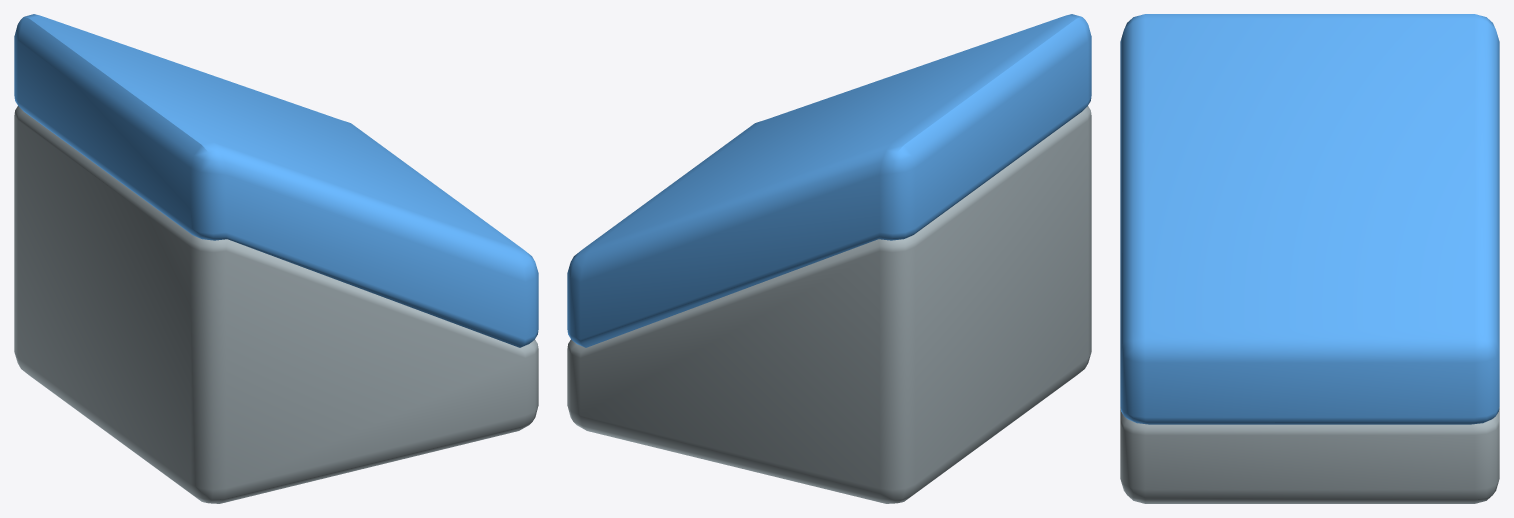
File: tileSlopeLowHigh_teamBlue.glb
3 views of the same model, side by side, from view 1: azimuth 30°, elevation 25°; view 2: azimuth 150°, elevation 25°; view 3: azimuth 270°, elevation 25° (orthographic). The views are drawn at different scales.
Parts seen in each view (by area): view 1: tileSlopeLowHigh_teamBlue; view 2: tileSlopeLowHigh_teamBlue; view 3: tileSlopeLowHigh_teamBlue.
Boxes of the visible parts, bbox=[...] form: tileSlopeLowHigh_teamBlue: bbox=[14, 14, 538, 503]; tileSlopeLowHigh_teamBlue: bbox=[567, 14, 1091, 503]; tileSlopeLowHigh_teamBlue: bbox=[1120, 14, 1499, 503].
Size of the model in its own units: 0.6 by 0.6 by 0.6.
